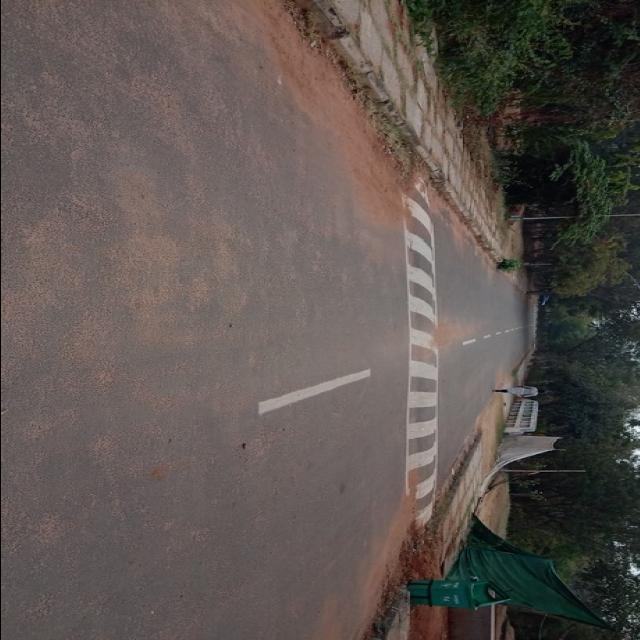speedbreaker: (394, 181, 452, 505)
